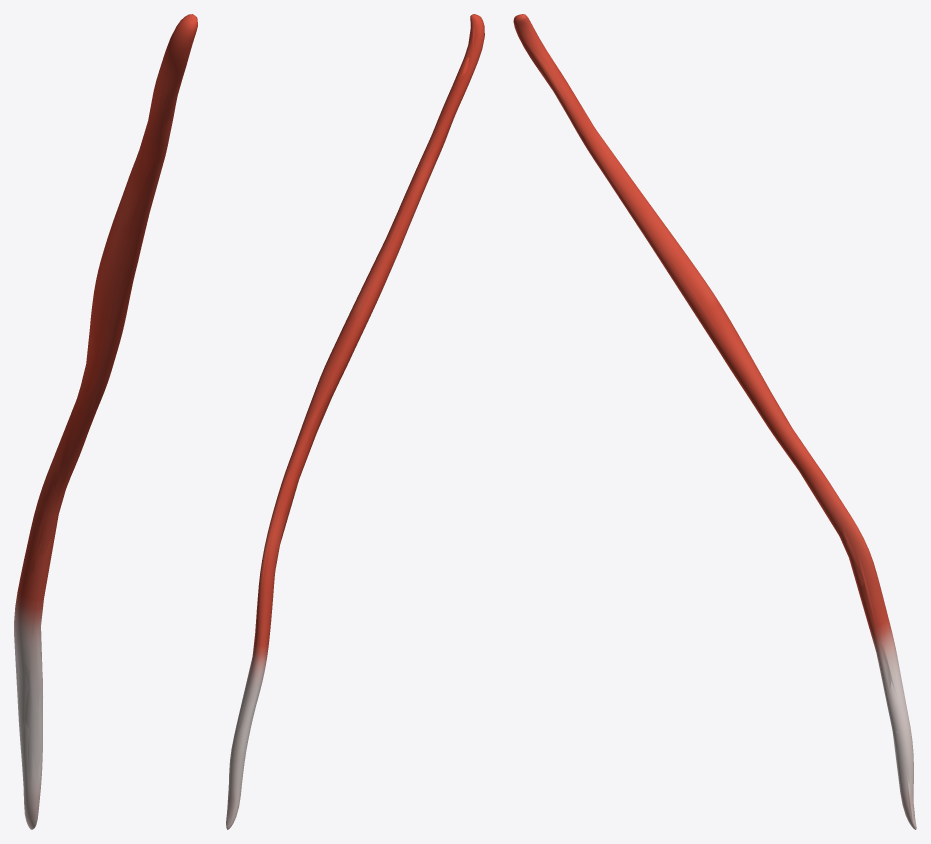
Rendered from R Fibularis Tertius.fbx.
The picture shows the model from 3 angles, left to right: view 1: azimuth 30°, elevation 25°; view 2: azimuth 150°, elevation 25°; view 3: azimuth 270°, elevation 25°; orthographic projection. The views are drawn at different scales.
Parts seen in each view (by area): view 1: R Fibularis Tertius, R Fibularis Tertius low; view 2: R Fibularis Tertius, R Fibularis Tertius low; view 3: R Fibularis Tertius, R Fibularis Tertius low.
Boxes of the visible parts, <box> form: R Fibularis Tertius: <box>14,14,197,829</box>; R Fibularis Tertius low: <box>14,15,194,818</box>; R Fibularis Tertius: <box>226,14,484,829</box>; R Fibularis Tertius low: <box>226,15,474,823</box>; R Fibularis Tertius: <box>513,14,916,829</box>; R Fibularis Tertius low: <box>516,14,914,821</box>.
Size of the model in its own units: 5.74 by 46.1 by 21.64.
